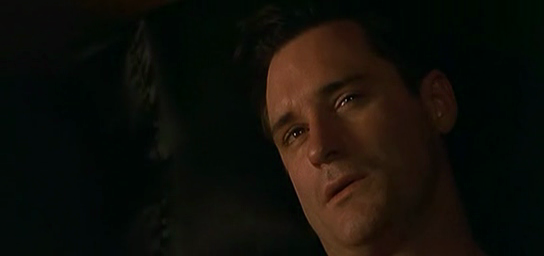cu: (1, 1, 544, 256)
face: (266, 42, 407, 247)
person: (254, 1, 485, 256)
